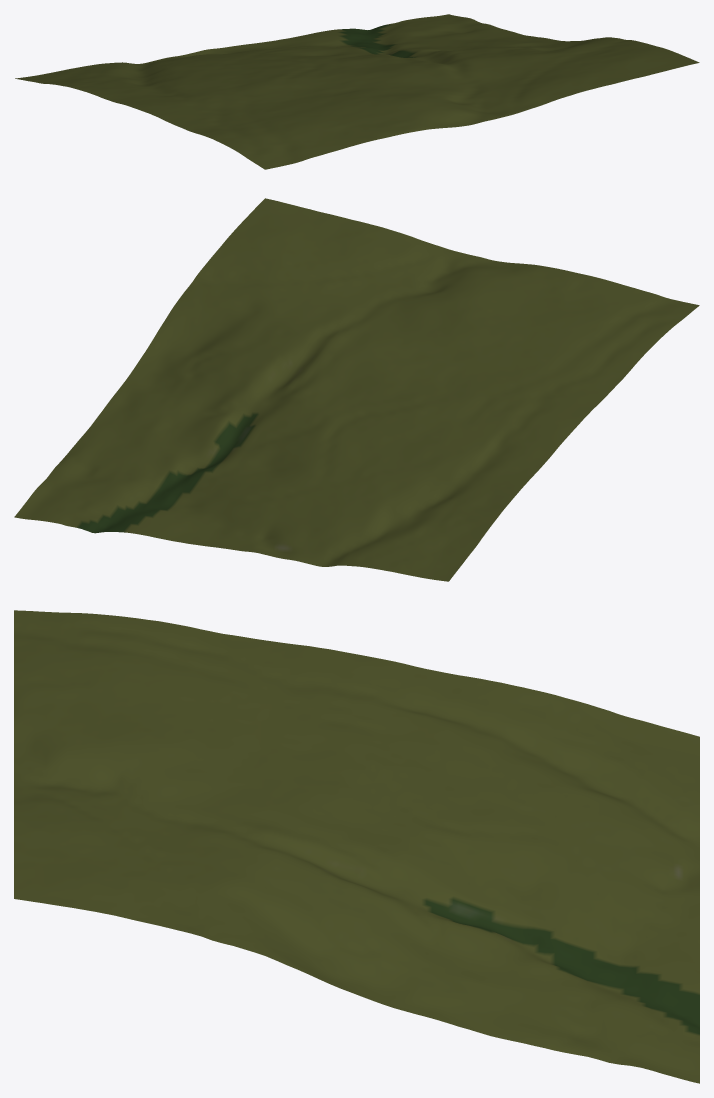
File: terrain_14_-9.glb
The picture shows the model from 3 angles, top to bottom: view 1: azimuth 30°, elevation 25°; view 2: azimuth 150°, elevation 25°; view 3: azimuth 270°, elevation 25°; orthographic projection. The views are drawn at different scales.
Parts seen in each view (by area): view 1: terrain_14_-9; view 2: terrain_14_-9; view 3: terrain_14_-9.
Part boxes in pixels (x1,y1,x2,y2): terrain_14_-9: [15, 14, 699, 169]; terrain_14_-9: [14, 198, 699, 581]; terrain_14_-9: [14, 610, 699, 1083].
Bounding box in the file's own units: 256 × 77.07 × 256.
